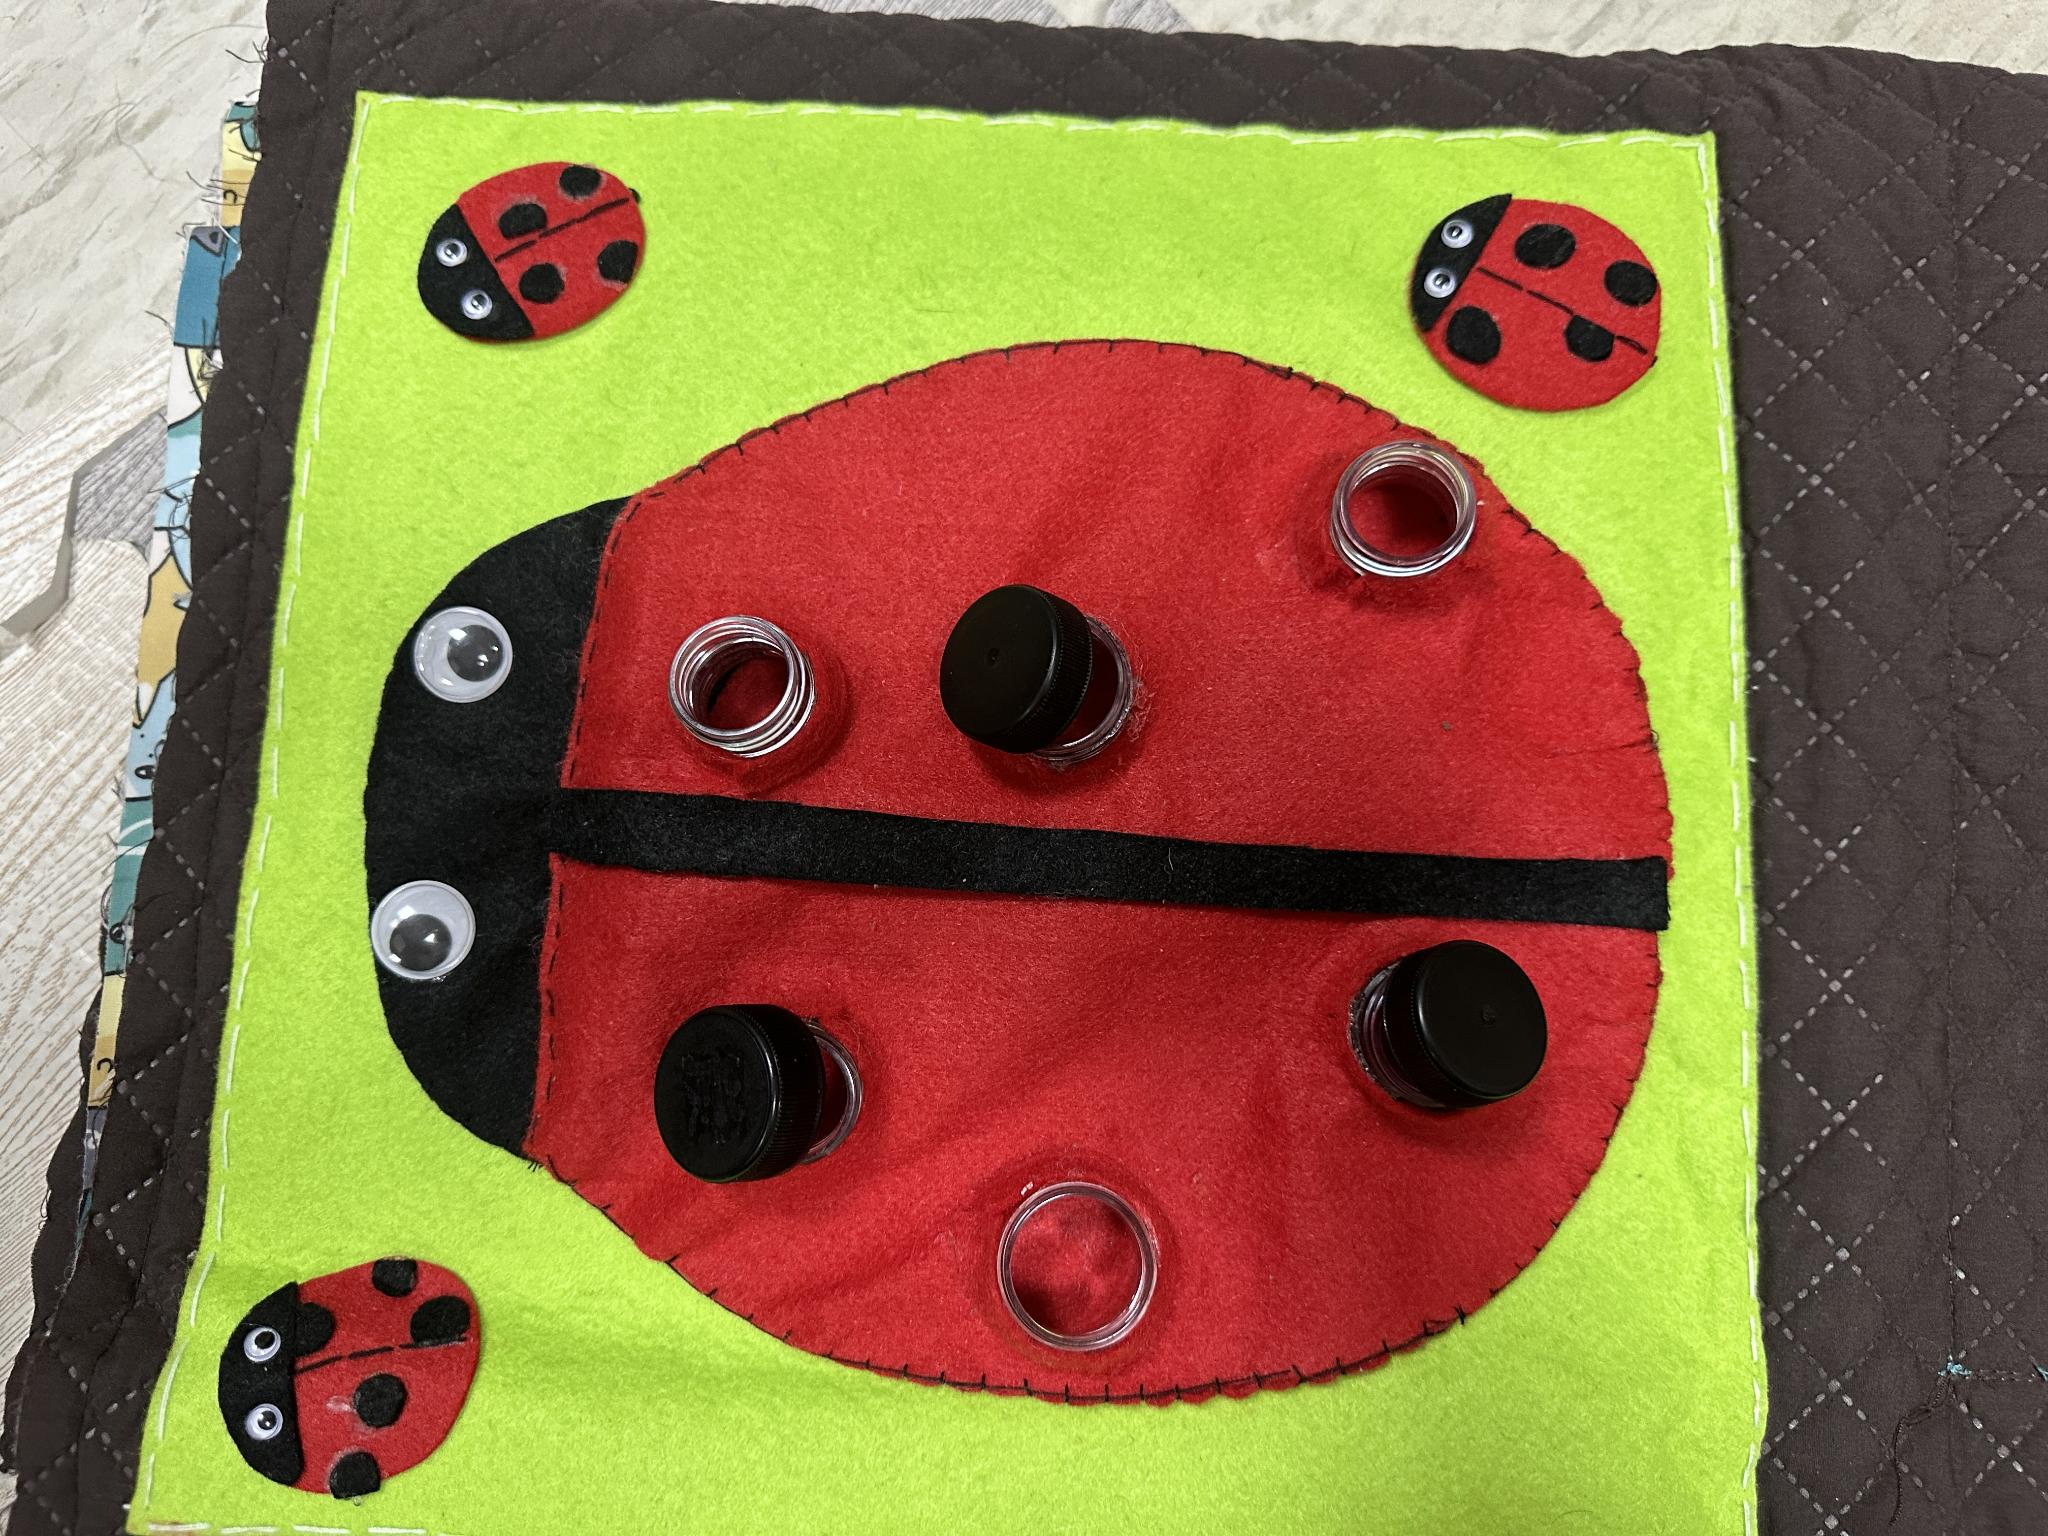cap_ng: (937, 570, 1159, 797), (645, 989, 884, 1200), (1337, 920, 1545, 1160)
